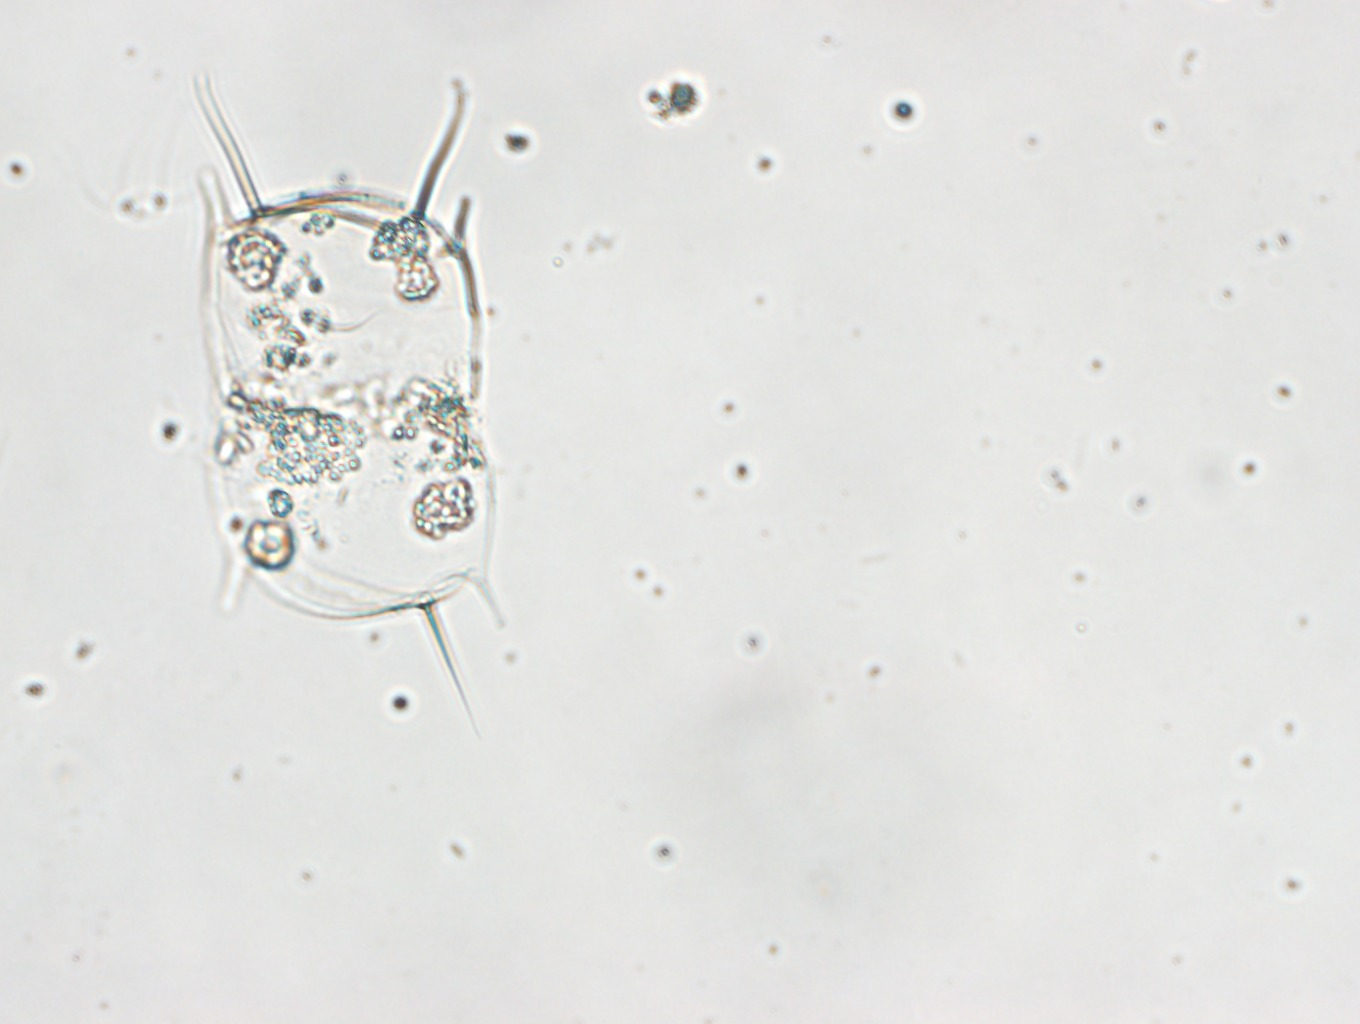biddulphia: (191, 68, 504, 737)
